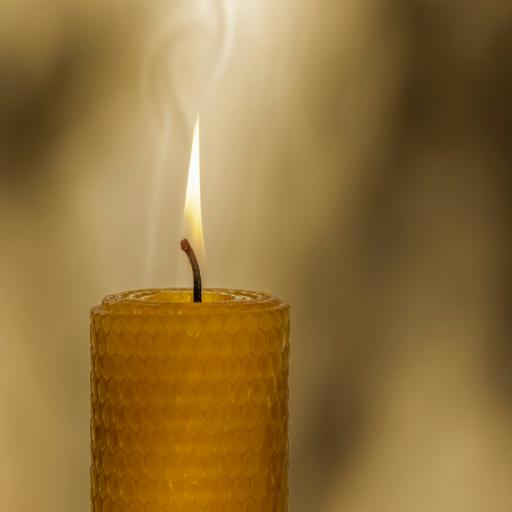candlelight: (99, 87, 295, 512)
